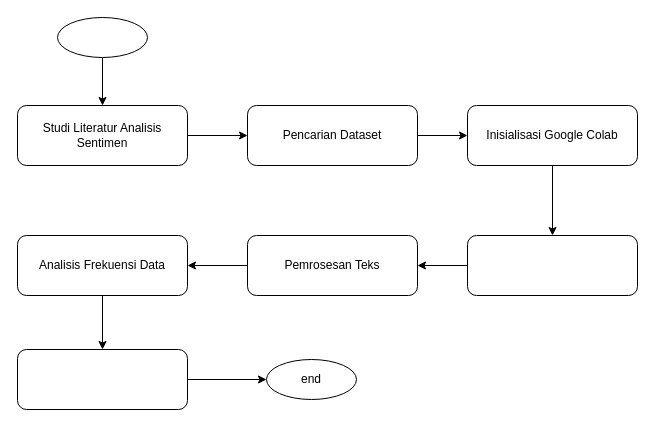
Image size: 655x427. Some labels were removed from this diagram. The box of each missing label's shape, as (x1, y1, x2, y2) in pixels:
Eksplorasi Data Awal: (466, 234, 638, 296)
start: (56, 16, 148, 58)
VIsualisasi Data: (16, 348, 188, 410)
